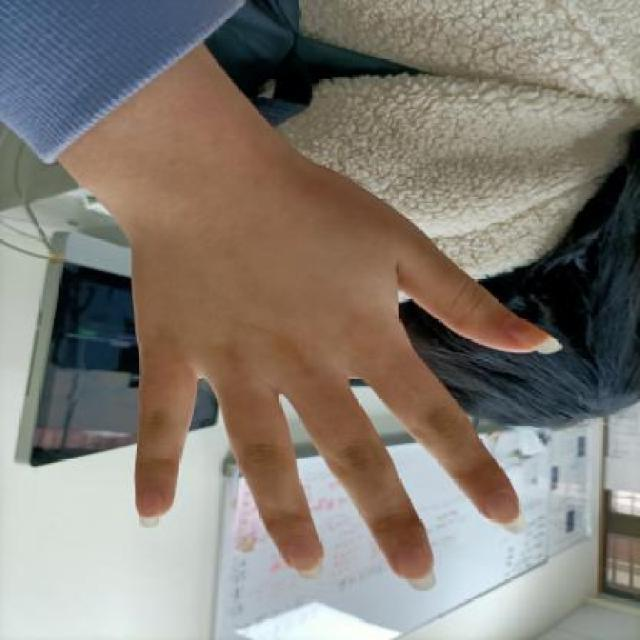bare_hand: (111, 152, 580, 606)
